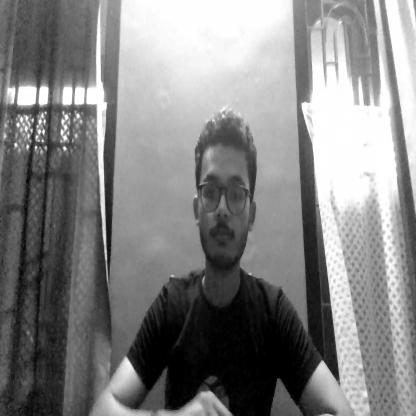Normal: (197, 114, 256, 270)
